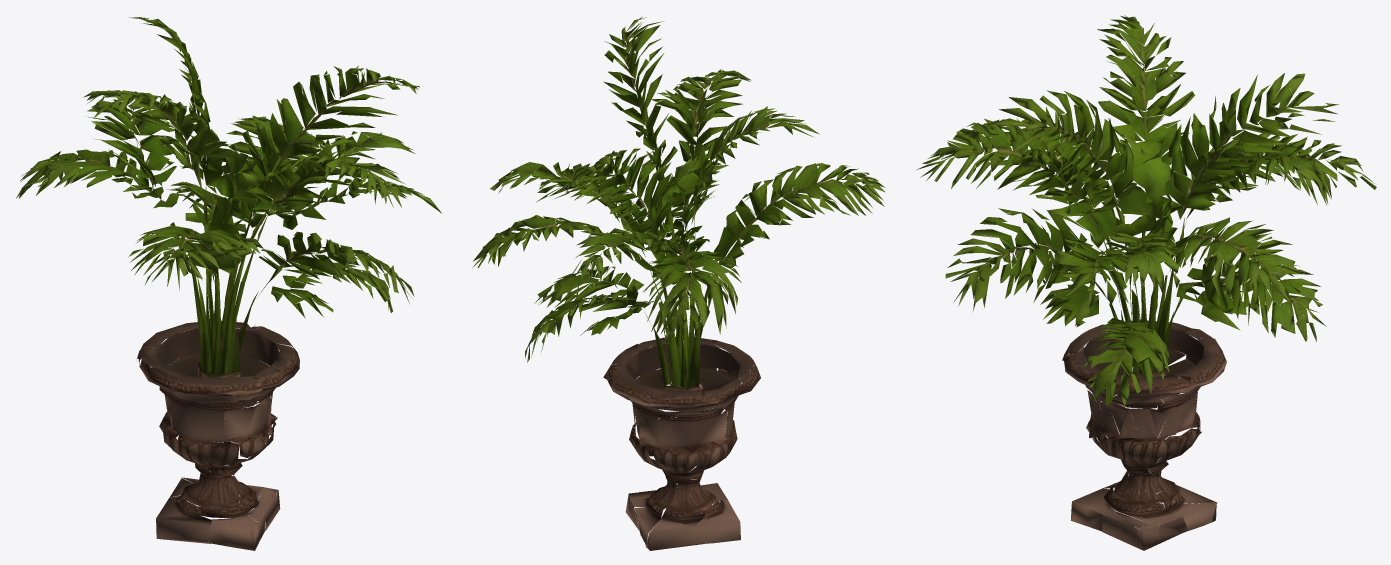
File: cp_palm.glb
The picture shows the model from 3 angles, left to right: view 1: azimuth 30°, elevation 25°; view 2: azimuth 150°, elevation 25°; view 3: azimuth 270°, elevation 25°; orthographic projection. The views are drawn at different scales.
Visible parts, largest first — view 1: tripo_node_67f27b2d-9220-4011-a989-ff607e01b5a8; view 2: tripo_node_67f27b2d-9220-4011-a989-ff607e01b5a8; view 3: tripo_node_67f27b2d-9220-4011-a989-ff607e01b5a8.
Boxes of the visible parts, bbox=[...] form: tripo_node_67f27b2d-9220-4011-a989-ff607e01b5a8: bbox=[16, 17, 441, 550]; tripo_node_67f27b2d-9220-4011-a989-ff607e01b5a8: bbox=[472, 16, 885, 550]; tripo_node_67f27b2d-9220-4011-a989-ff607e01b5a8: bbox=[916, 15, 1376, 550].
Size of the model in its own units: 0.7724 by 1 by 0.8891.
Materials: 1 (1 with a texture image).
